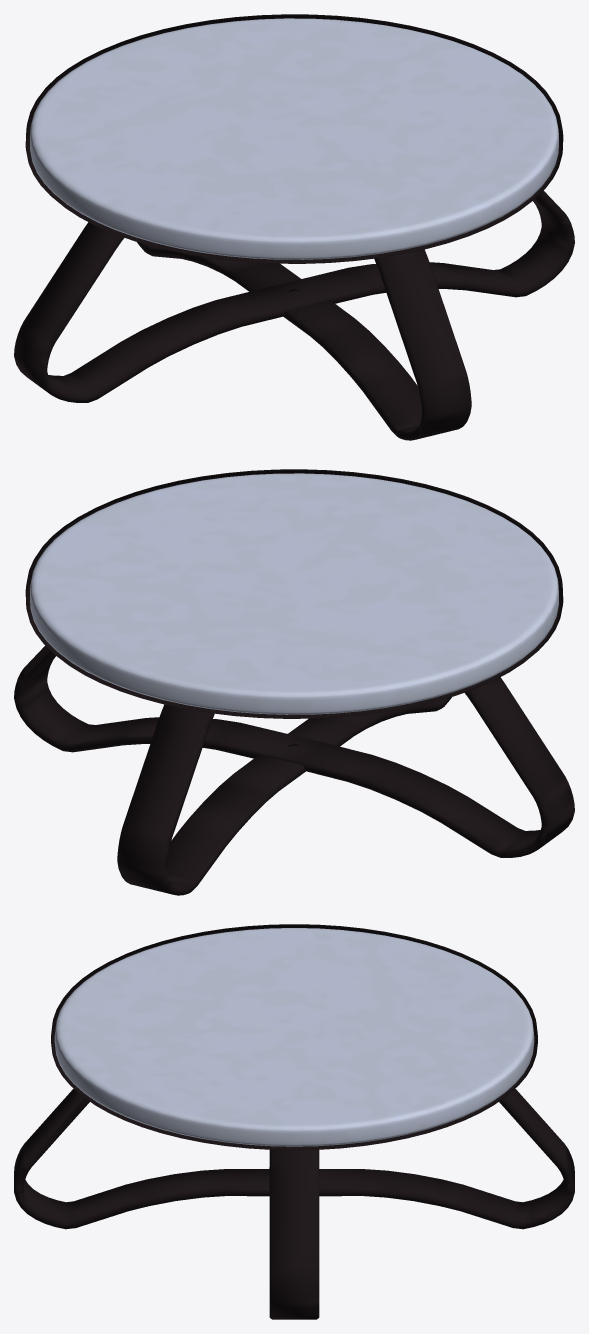
The model's file is SM_Int_CoffeeTable.fbx.
3 renders of one model, top to bottom at view 1: azimuth 30°, elevation 25°; view 2: azimuth 150°, elevation 25°; view 3: azimuth 270°, elevation 25°, orthographic. The views are drawn at different scales.
Parts seen in each view (by area): view 1: SM_Int_CoffeeTable; view 2: SM_Int_CoffeeTable; view 3: SM_Int_CoffeeTable.
Part boxes in pixels (x1,y1,x2,y2): SM_Int_CoffeeTable: (14, 14, 574, 440); SM_Int_CoffeeTable: (14, 469, 574, 895); SM_Int_CoffeeTable: (14, 924, 574, 1319).
Size of what is drawn, in the model's own units: 1.21 by 0.4654 by 1.21.
